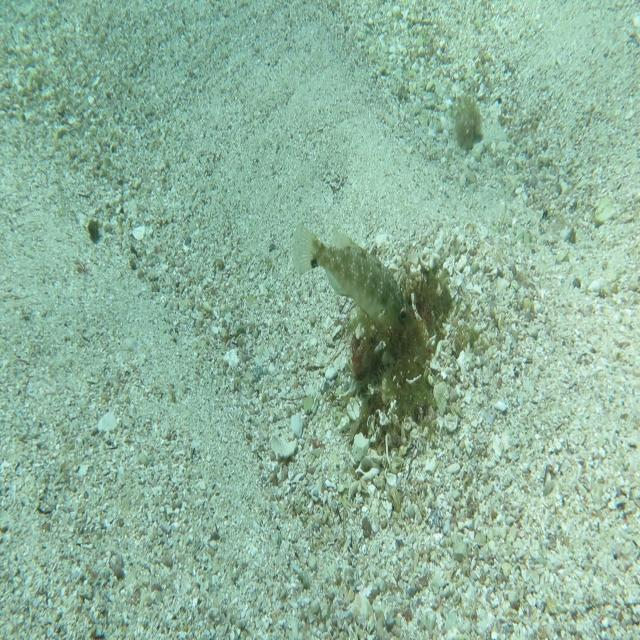NIP_CORE: (291, 218, 411, 340)
nest: (344, 256, 459, 457)
vegetation: (453, 93, 486, 152), (85, 217, 104, 249)
